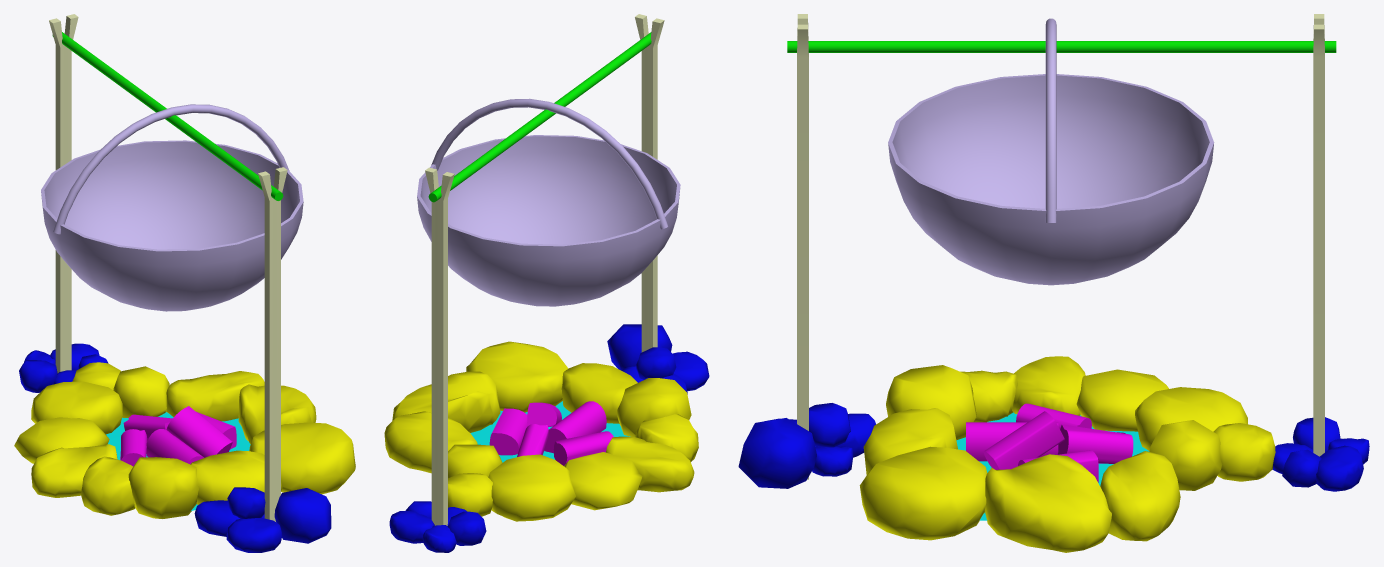
The model's file is Fire_camp_food_big.fbx.
The picture shows the model from 3 angles, left to right: view 1: azimuth 30°, elevation 25°; view 2: azimuth 150°, elevation 25°; view 3: azimuth 270°, elevation 25°; orthographic projection. The views are drawn at different scales.
Parts seen in each view (by area): view 1: pTorus1, bolder4, pCube36, bolder21, pCylinder23, pCylinder25, pCube34; view 2: pTorus1, bolder4, pCube36, bolder21, pCylinder23, pCylinder25, pCube34; view 3: pTorus1, bolder4, bolder21, pCube36, pCylinder23, pCylinder25, pCube34.
Part boxes in pixels (box(x1,y1,x2,y2)): pTorus1: box(41, 104, 303, 311); bolder4: box(14, 362, 355, 518); pCube36: box(49, 14, 287, 521); bolder21: box(19, 343, 331, 552); pCylinder23: box(120, 406, 236, 466); pCylinder25: box(52, 32, 283, 200); pCube34: box(106, 412, 250, 510); pTorus1: box(417, 98, 680, 306); bolder4: box(384, 341, 698, 521); pCube36: box(425, 14, 664, 525); bolder21: box(389, 324, 709, 552); pCylinder23: box(489, 401, 613, 465); pCylinder25: box(428, 32, 651, 202); pCube34: box(470, 401, 630, 462); pTorus1: box(888, 18, 1214, 285); bolder4: box(859, 356, 1275, 552); bolder21: box(738, 403, 1369, 491); pCube36: box(797, 14, 1324, 479); pCylinder23: box(966, 403, 1133, 482); pCylinder25: box(787, 41, 1336, 52); pCube34: box(956, 412, 1149, 520).
Bounding box in the file's own units: 1.08 × 1.34 × 1.69.
